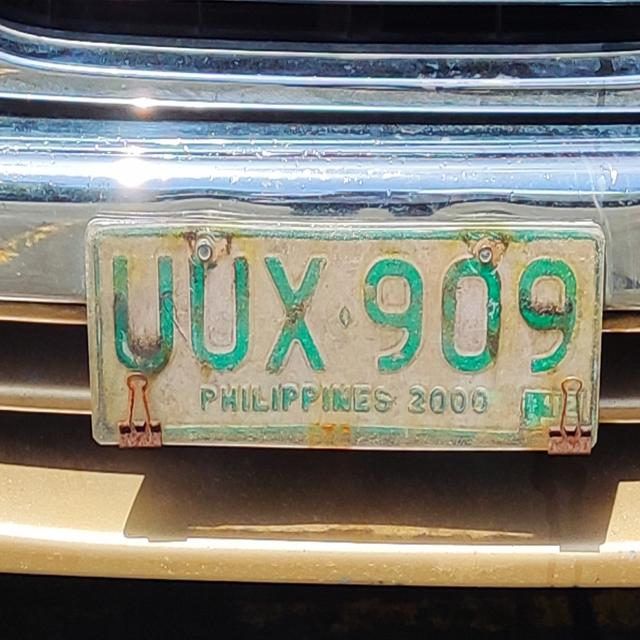plate: (79, 213, 609, 460)
